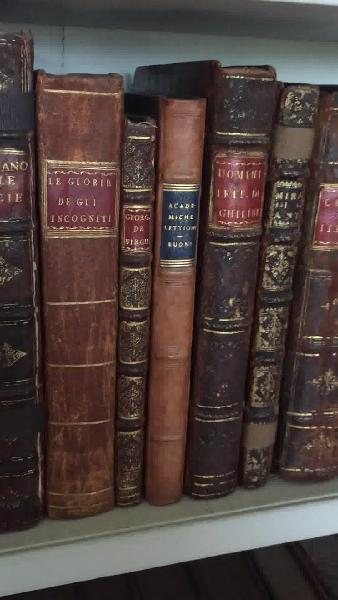Aa6-33: (30, 67, 125, 514)
Aa6-34: (120, 115, 154, 508)
Aa6-35: (150, 83, 204, 502)
Aa6-36: (193, 55, 275, 498)
Aa6-37: (247, 68, 306, 487)
